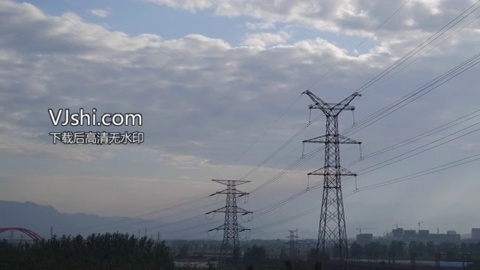tower_body: (298, 85, 368, 270), (205, 173, 258, 270)
tower_foot: (316, 235, 351, 267), (217, 244, 243, 269)
tower_head: (301, 87, 364, 117), (207, 176, 254, 199)
